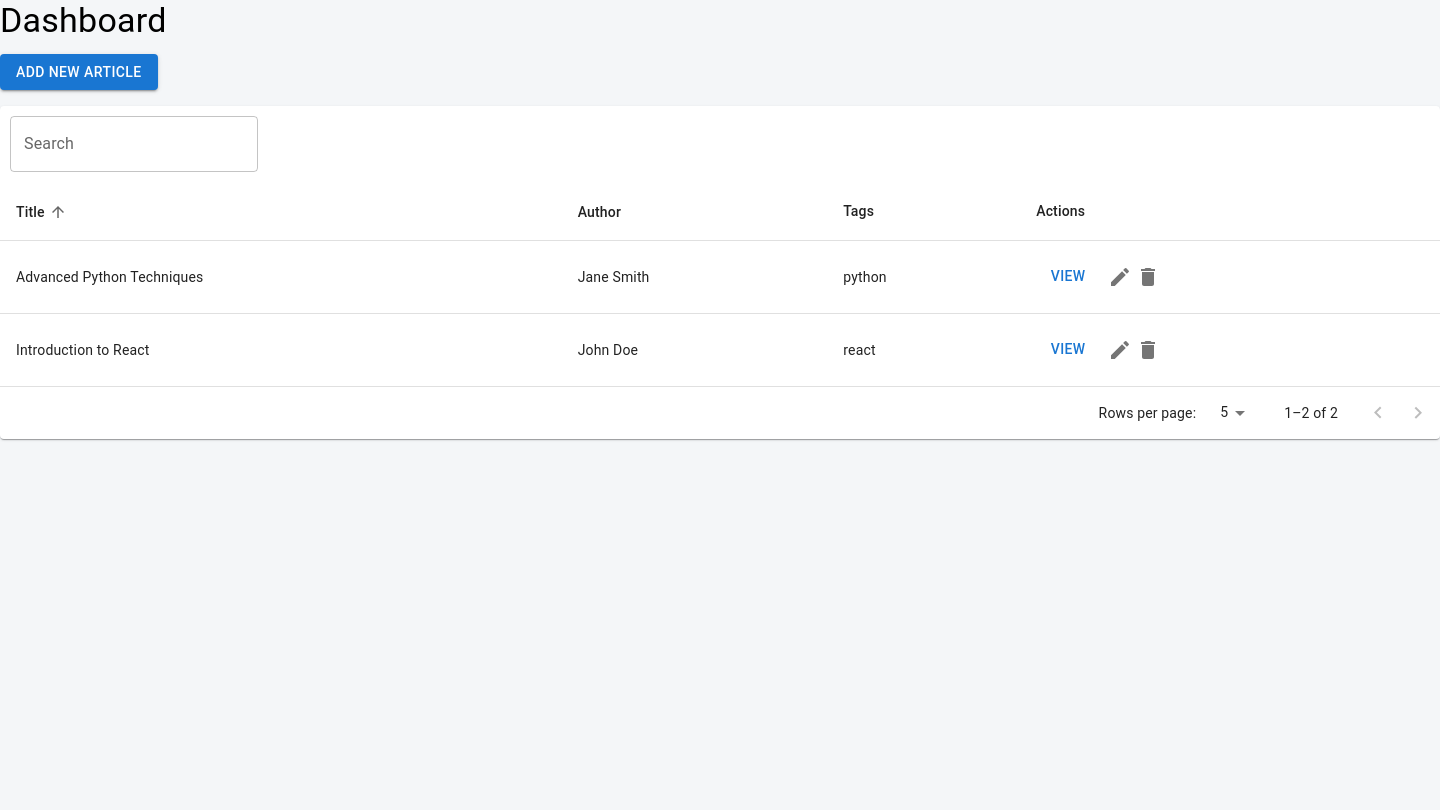
it: deletes an article
Expected: the text "Advanced Python Techniques" is shown, [0, 240, 562, 313]
Expected: the text "Introduction to React" is shown, [0, 313, 562, 386]
Click the button named "delete" in the row of "Advanced Python Techniques" at (1148, 277), box [1128, 257, 1168, 297]
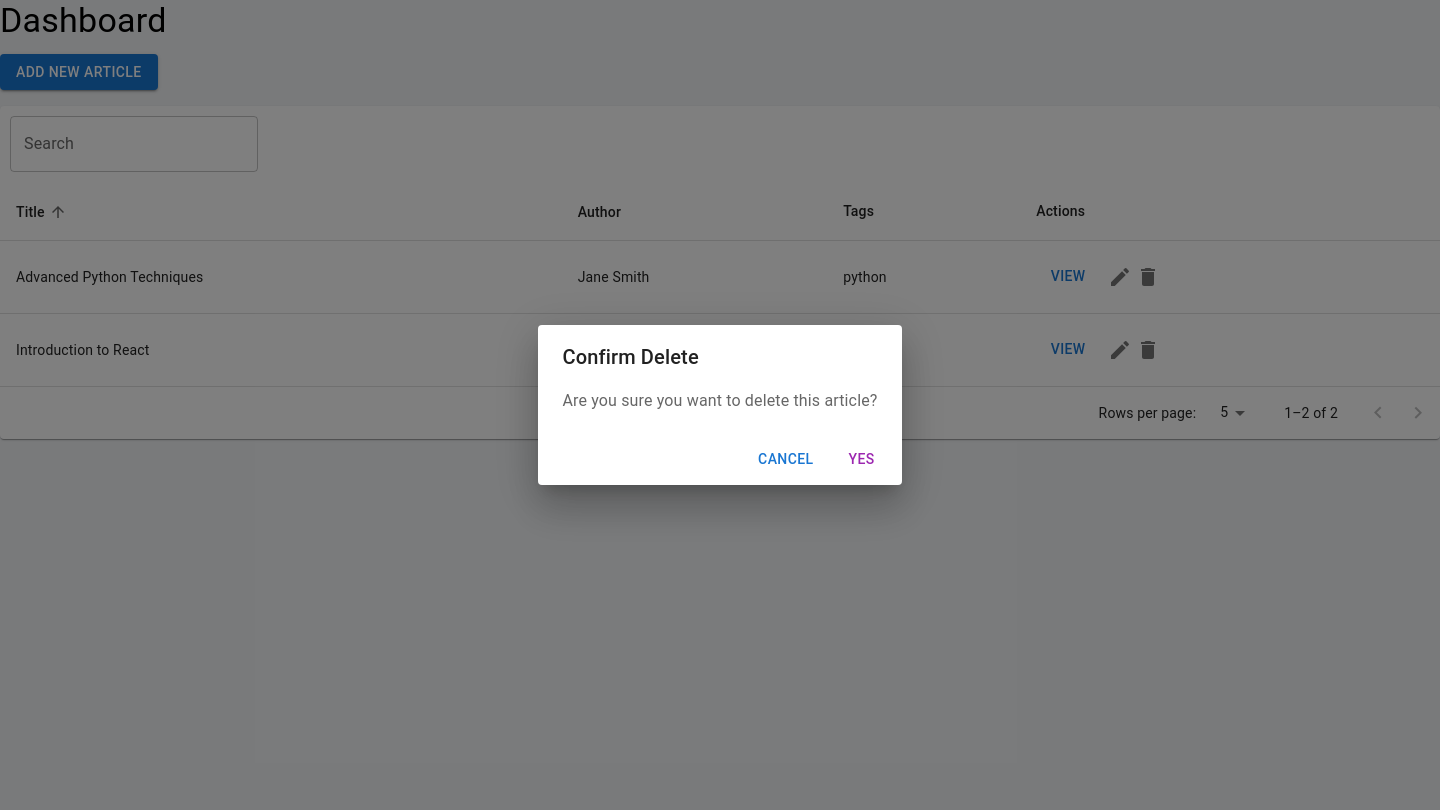
Result: the text "Are you sure you want to delete this article?" is shown at [562, 389, 878, 413]
Click the button "Yes" at (862, 459), box [830, 441, 894, 477]
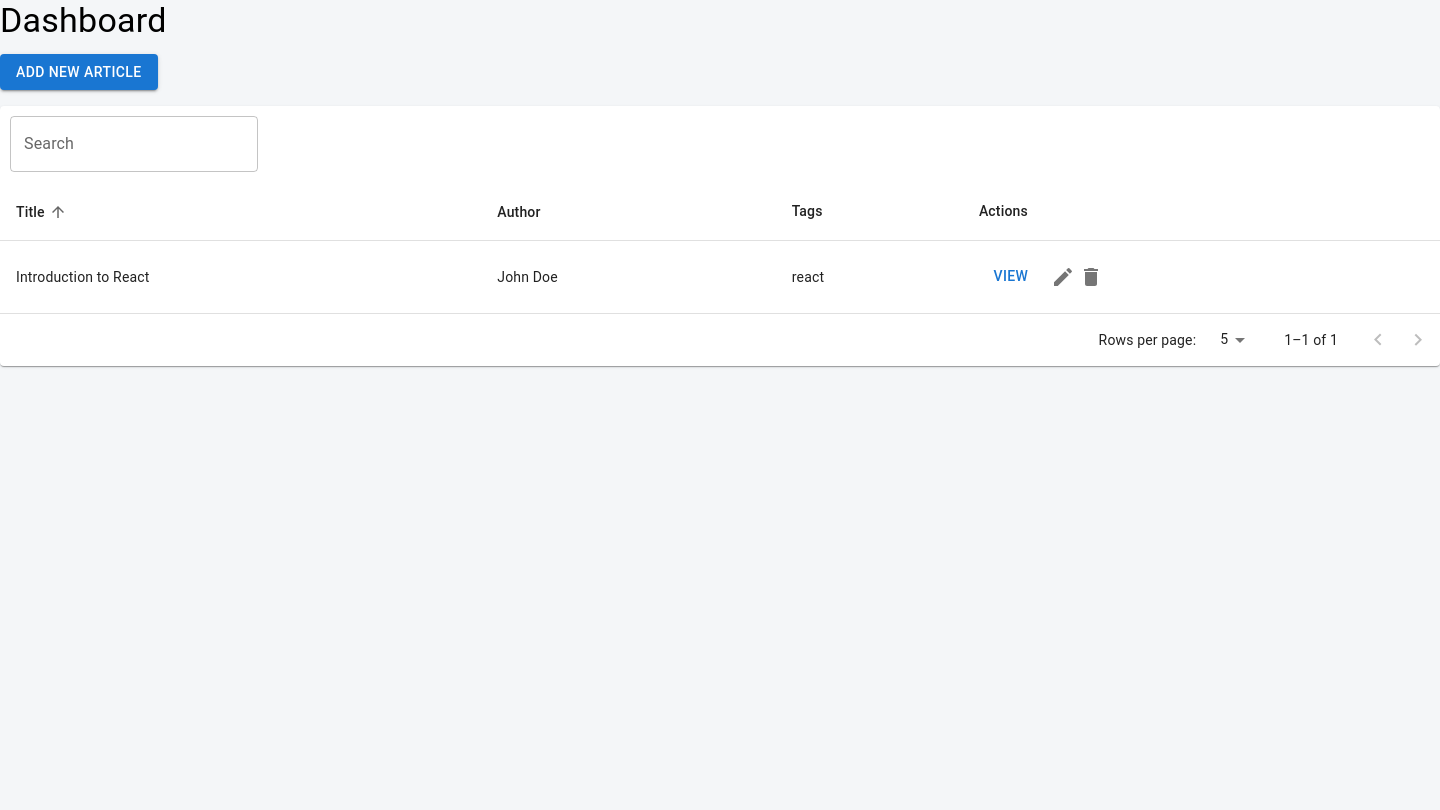
Result: the text "Advanced Python Techniques" is gone
